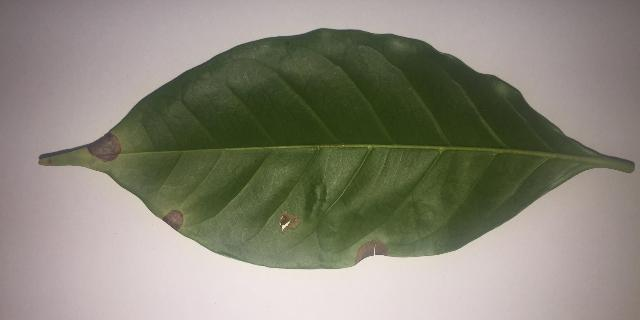phoma: (82, 132, 121, 161), (355, 241, 388, 263), (161, 210, 183, 232), (278, 212, 300, 231)
